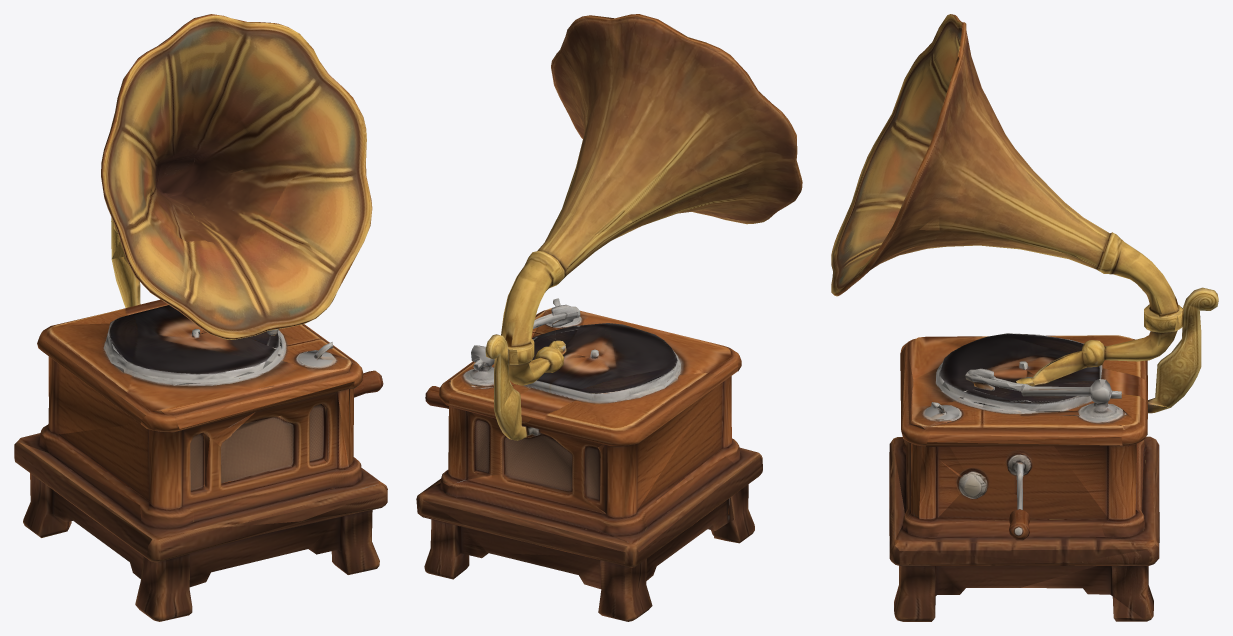
Rendered from Decor_Gramophone.fbx.
The picture shows the model from 3 angles, left to right: view 1: azimuth 30°, elevation 25°; view 2: azimuth 150°, elevation 25°; view 3: azimuth 270°, elevation 25°; orthographic projection. The views are drawn at different scales.
Parts seen in each view (by area): view 1: Mesh_0; view 2: Mesh_0; view 3: Mesh_0.
Part boxes in pixels (left/top/right/bottom): Mesh_0: left=14, top=14, right=387, bottom=621; Mesh_0: left=416, top=14, right=802, bottom=621; Mesh_0: left=831, top=14, right=1218, bottom=621.
Bounding box in the file's own units: 119 × 190 × 126.
Materials: 1 (1 with a texture image).
